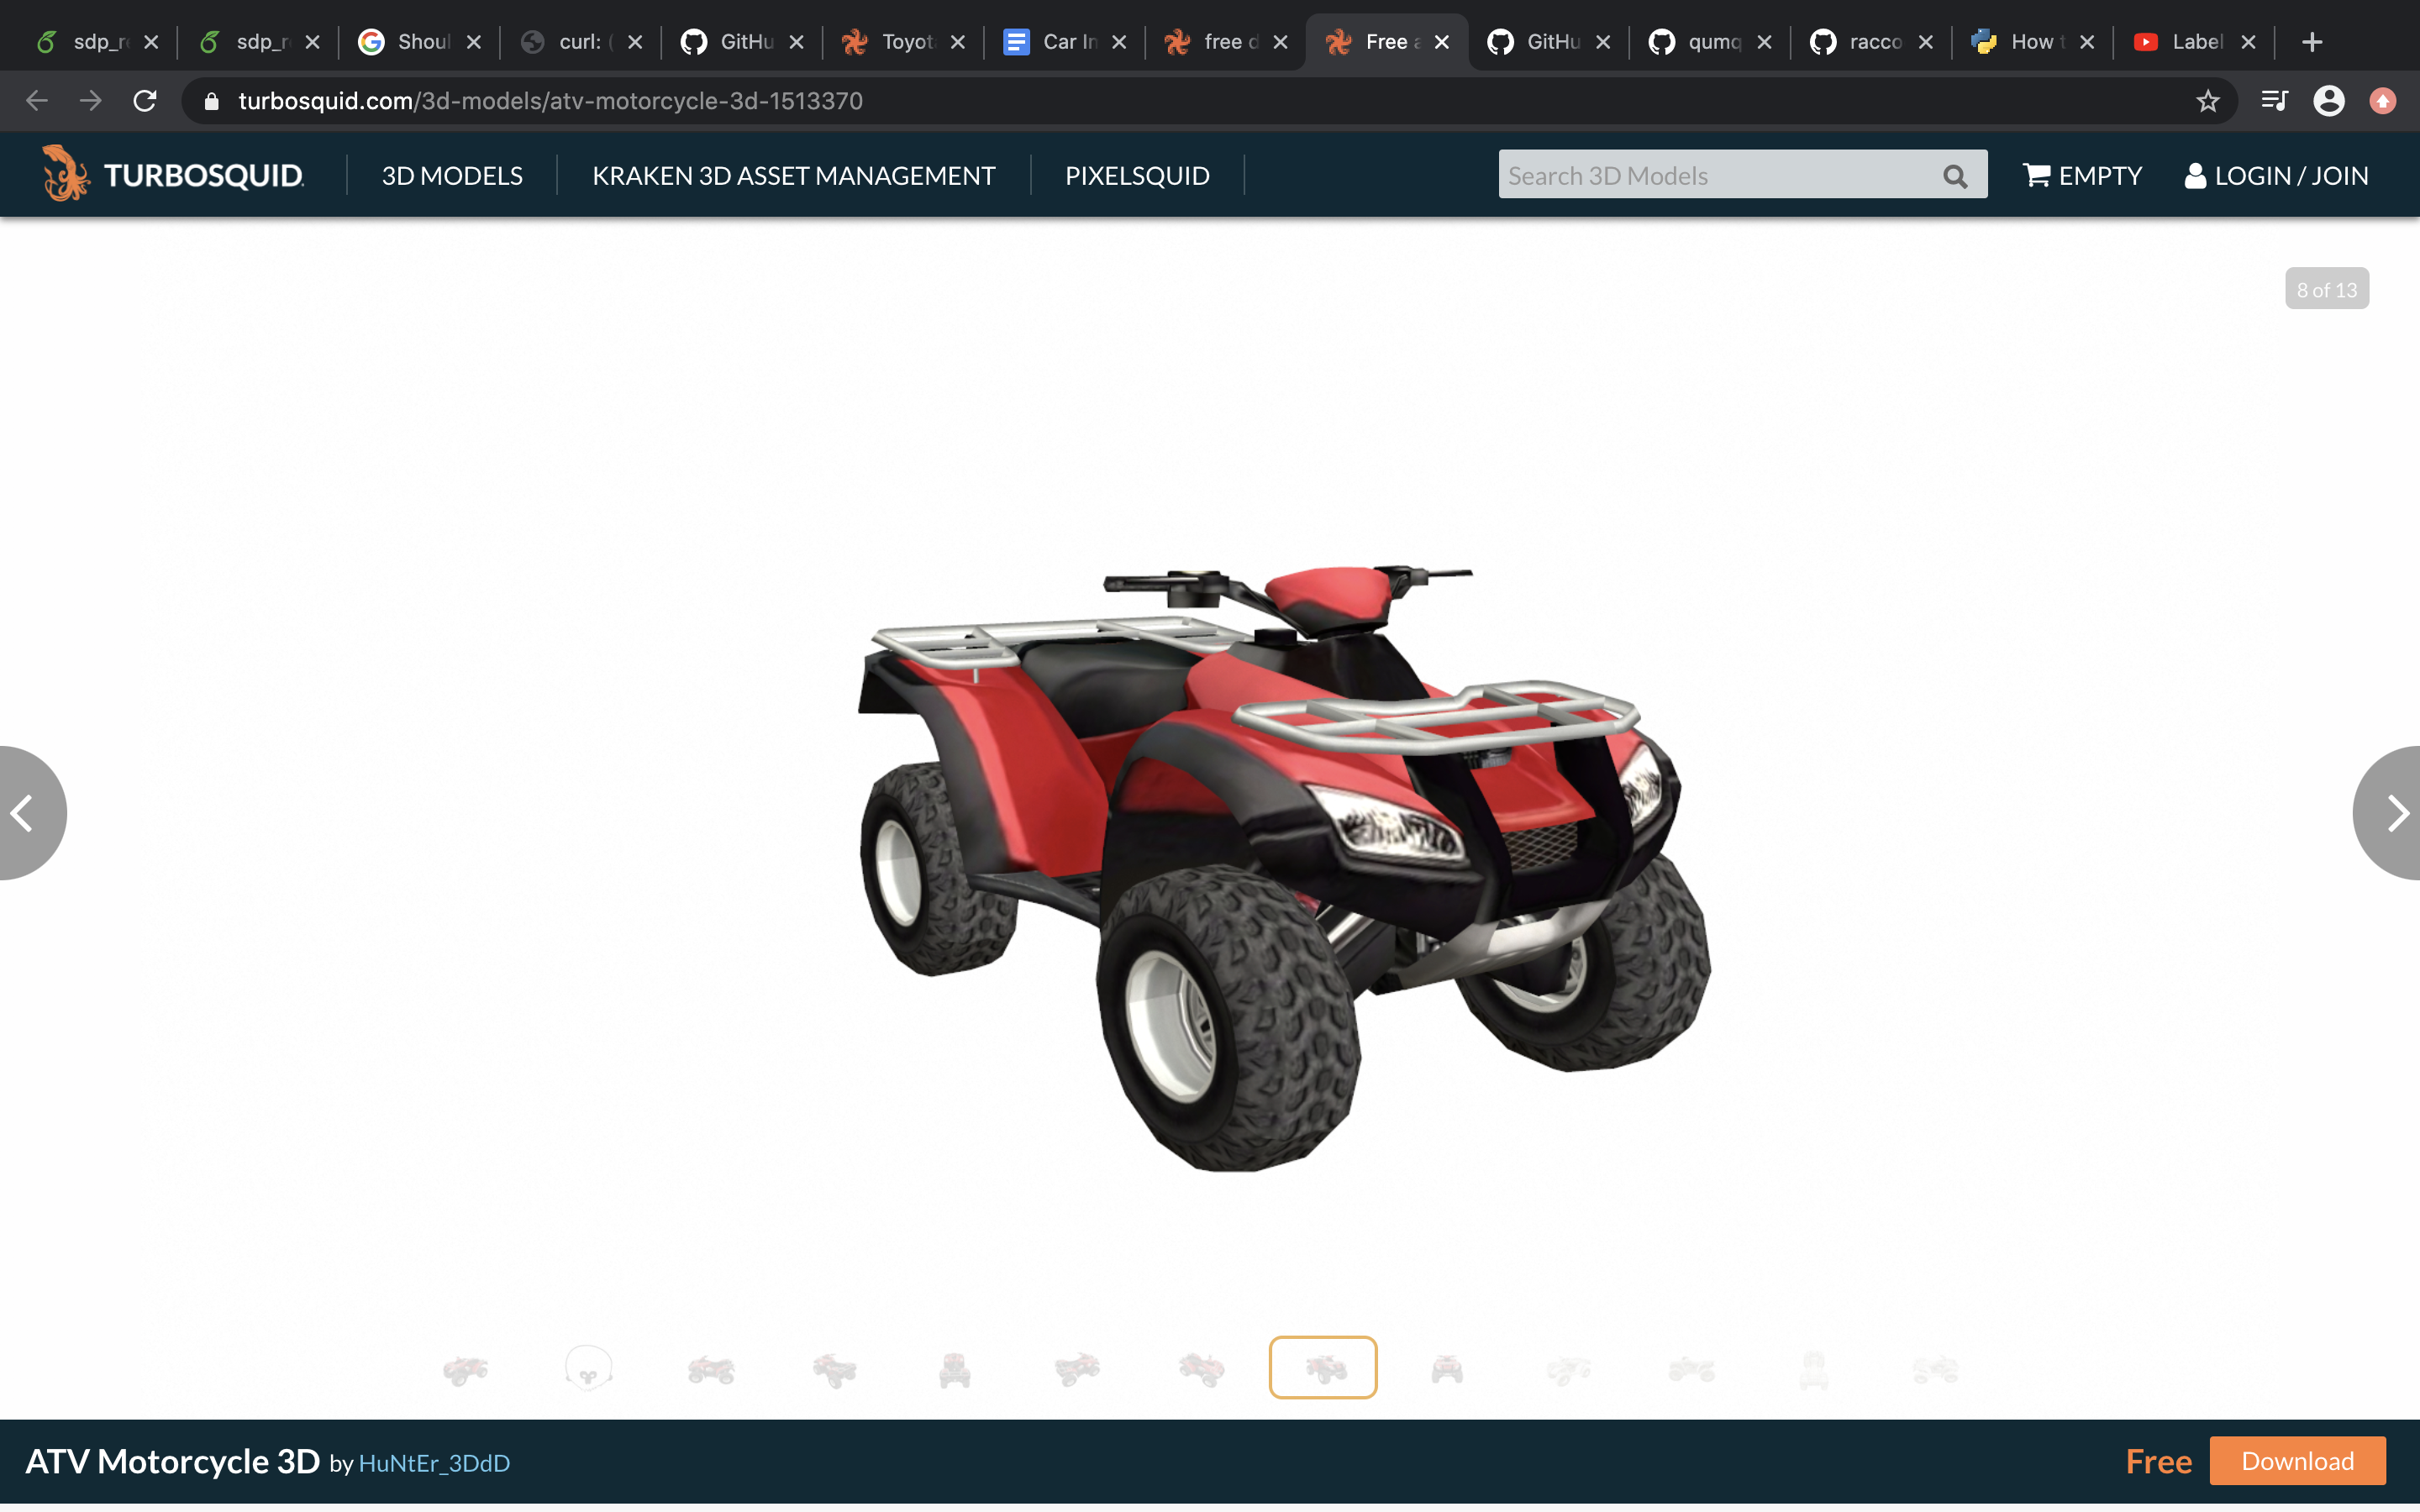hatch: (1258, 625, 1305, 662)
